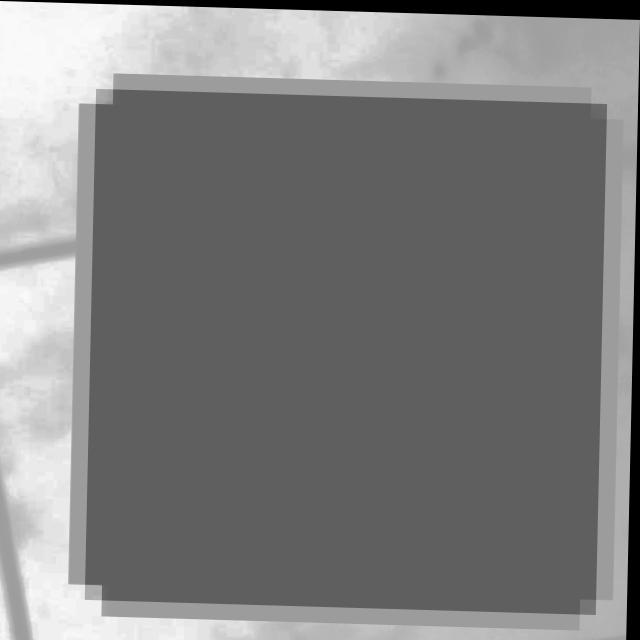qr_code: (88, 87, 608, 610)
